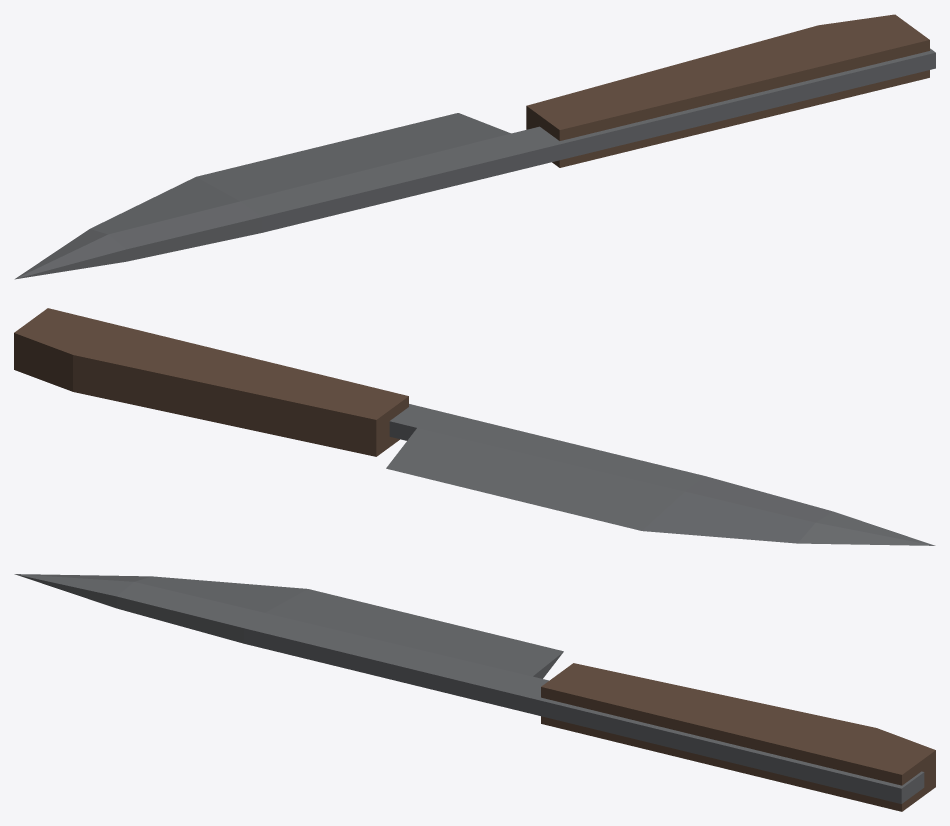
File: chefKnife01.fbx
3 views of the same model, one above another, from view 1: azimuth 30°, elevation 25°; view 2: azimuth 150°, elevation 25°; view 3: azimuth 330°, elevation 25° (orthographic). The views are drawn at different scales.
Visible parts, largest first — view 1: chefKnife01; view 2: chefKnife01; view 3: chefKnife01.
Boxes of the visible parts, bbox=[...] form: chefKnife01: bbox=[14, 14, 935, 279]; chefKnife01: bbox=[14, 308, 935, 545]; chefKnife01: bbox=[14, 574, 935, 811].
Size of the model in its own units: 50.01 by 1.98 by 6.23.
Materials: 1 (1 with a texture image).
